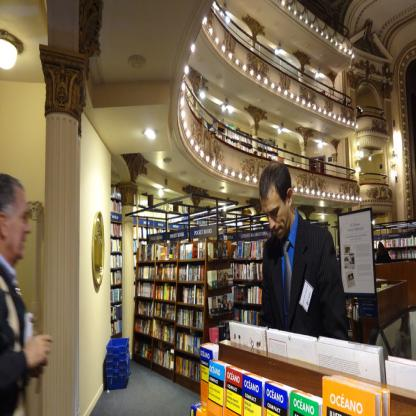book: (188, 314, 416, 415), (134, 234, 272, 383), (109, 183, 126, 347), (370, 240, 416, 264), (288, 390, 322, 415)
